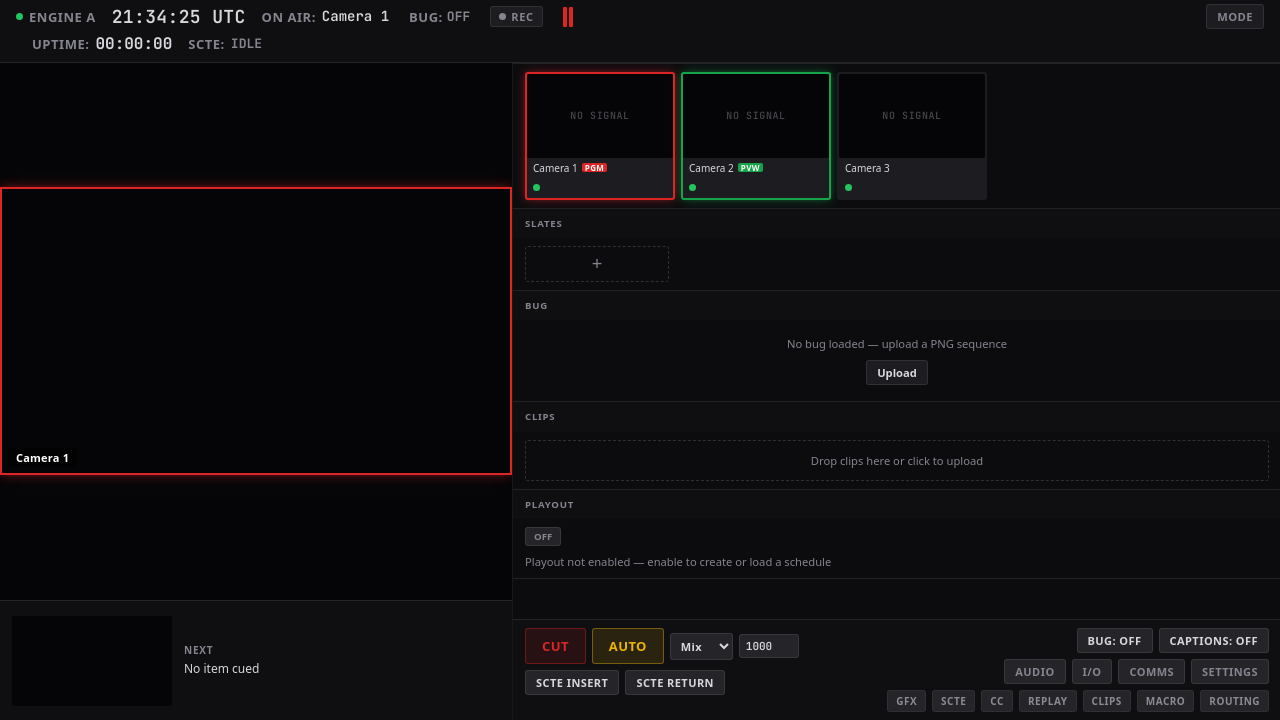
Test: OnAirController › shows skip confirmation dialog via S keyboard shortcut in playout mode
Click the button with class "toggle-btn" at (543, 536), box [525,527,561,546]
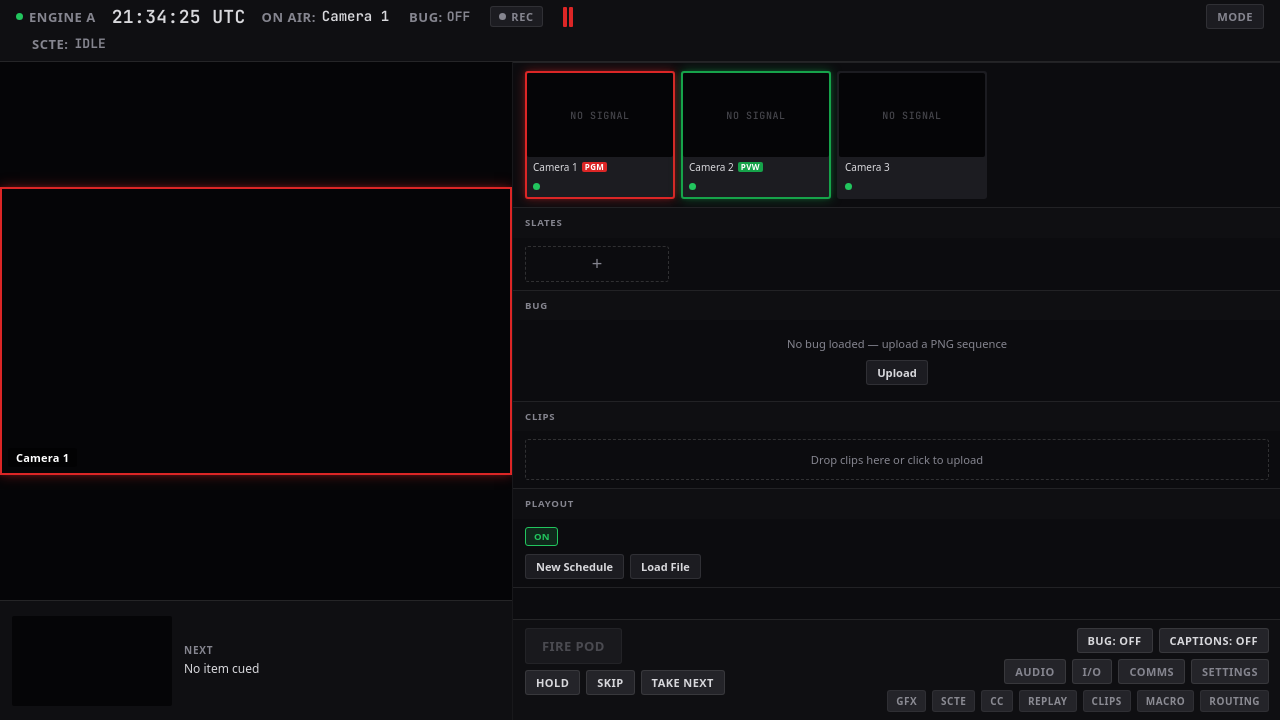
Press KeyS
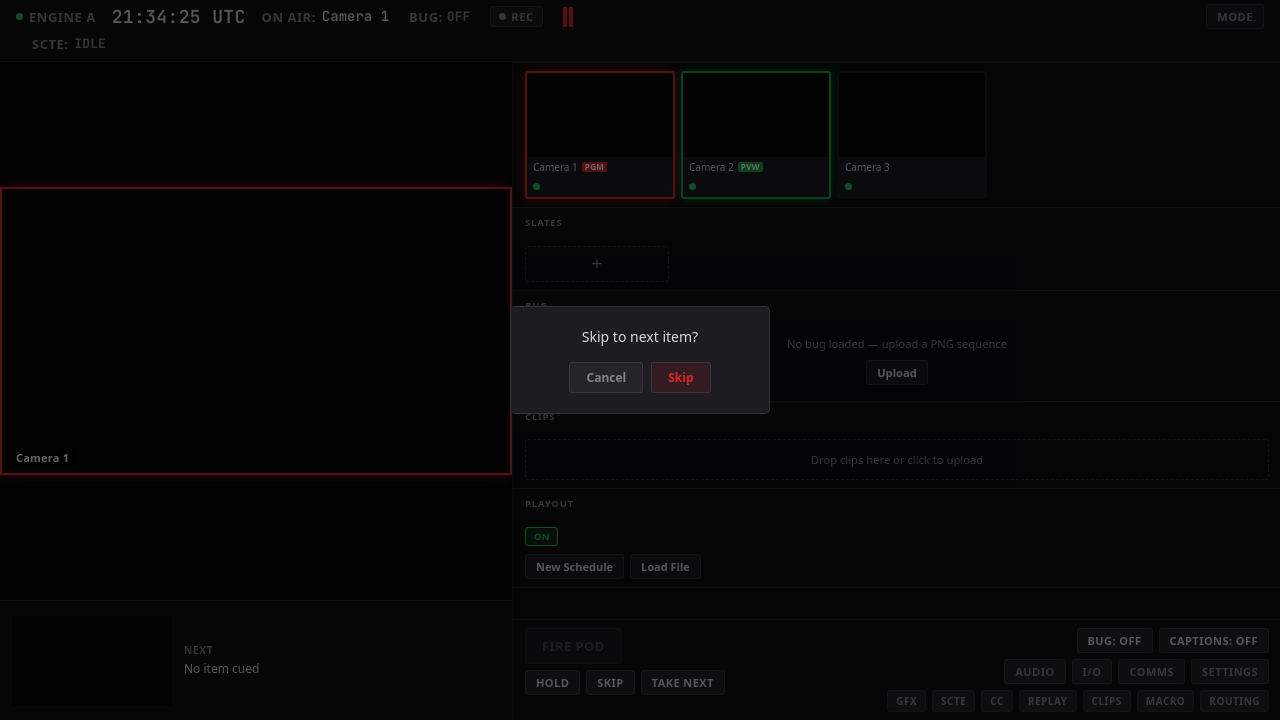
Result: the element with class "skip-confirm-backdrop" is shown
